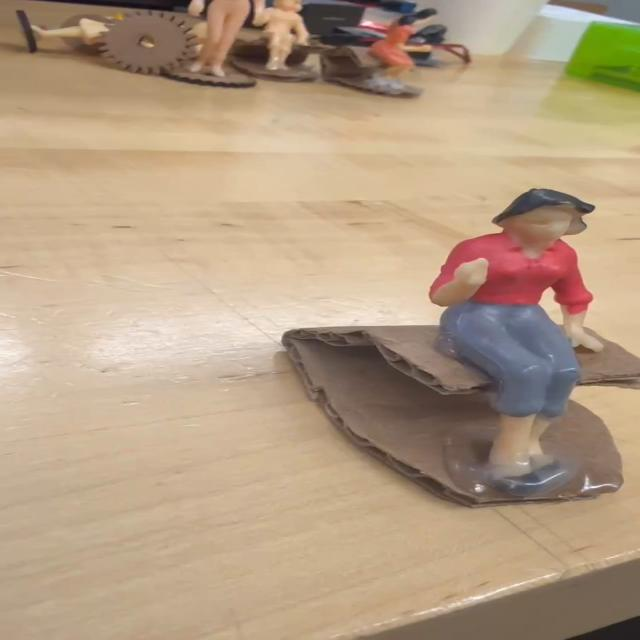Authorized: (349, 175, 637, 493)
